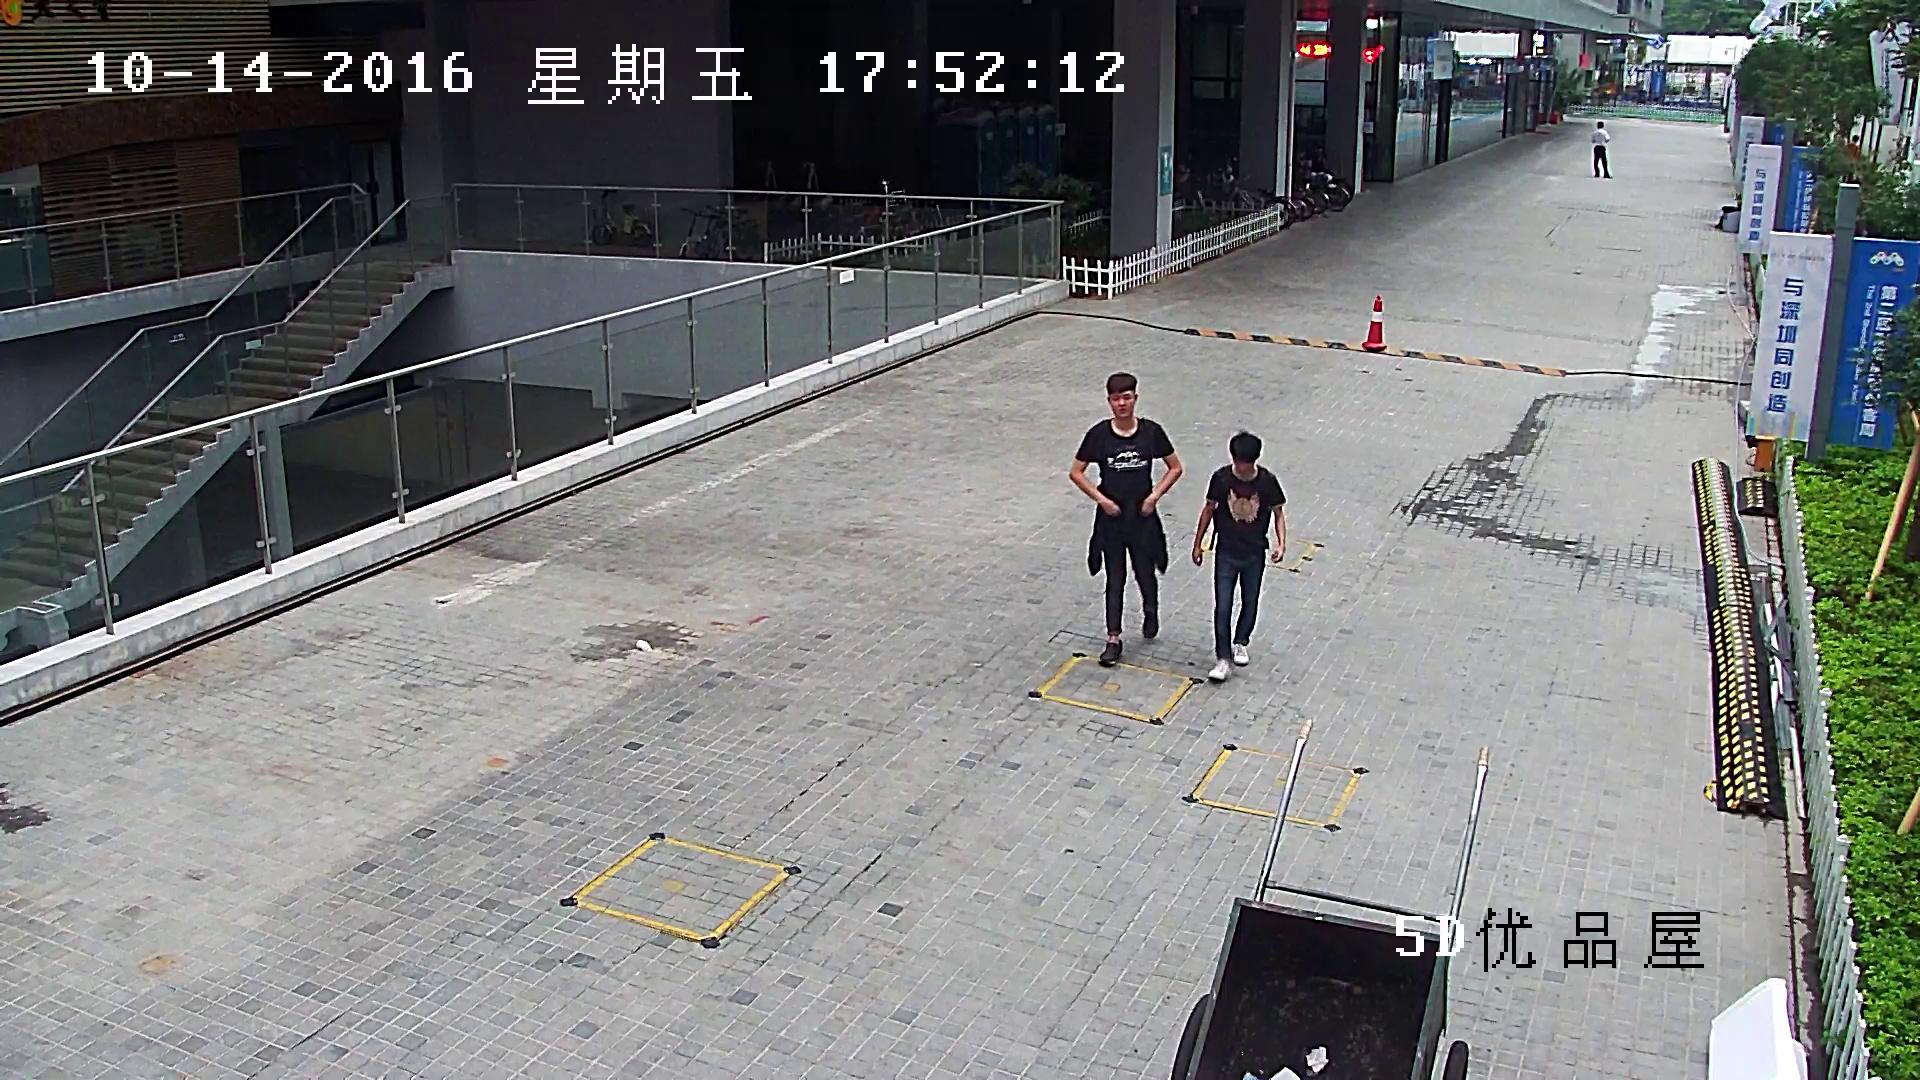person: (1069, 370, 1183, 667), (1191, 430, 1288, 684), (1592, 121, 1613, 179), (1844, 134, 1859, 183)
